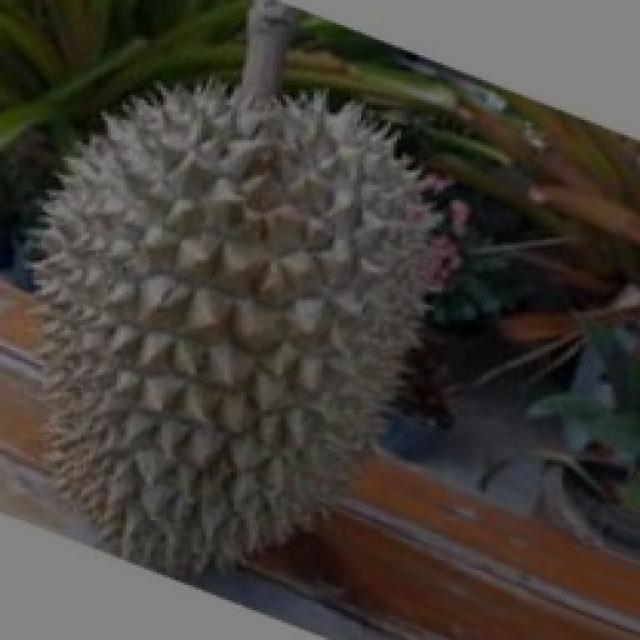fruit: (151, 20, 511, 505), (0, 238, 397, 630), (0, 22, 338, 422)
